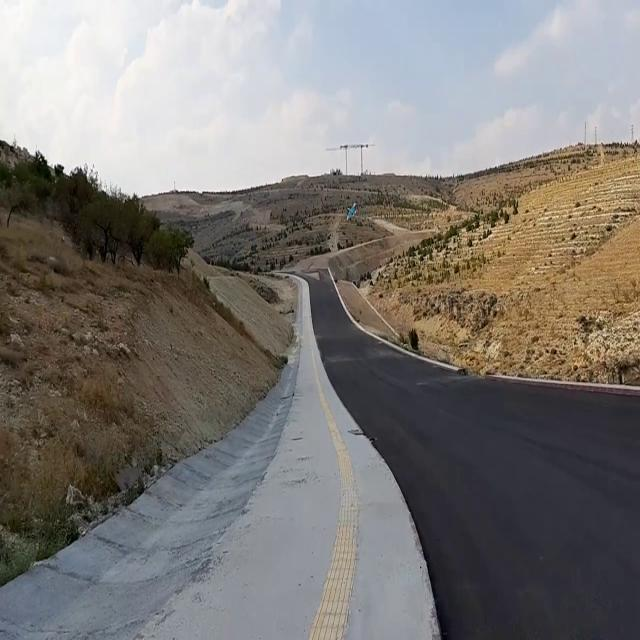iha: (349, 200, 353, 225)
